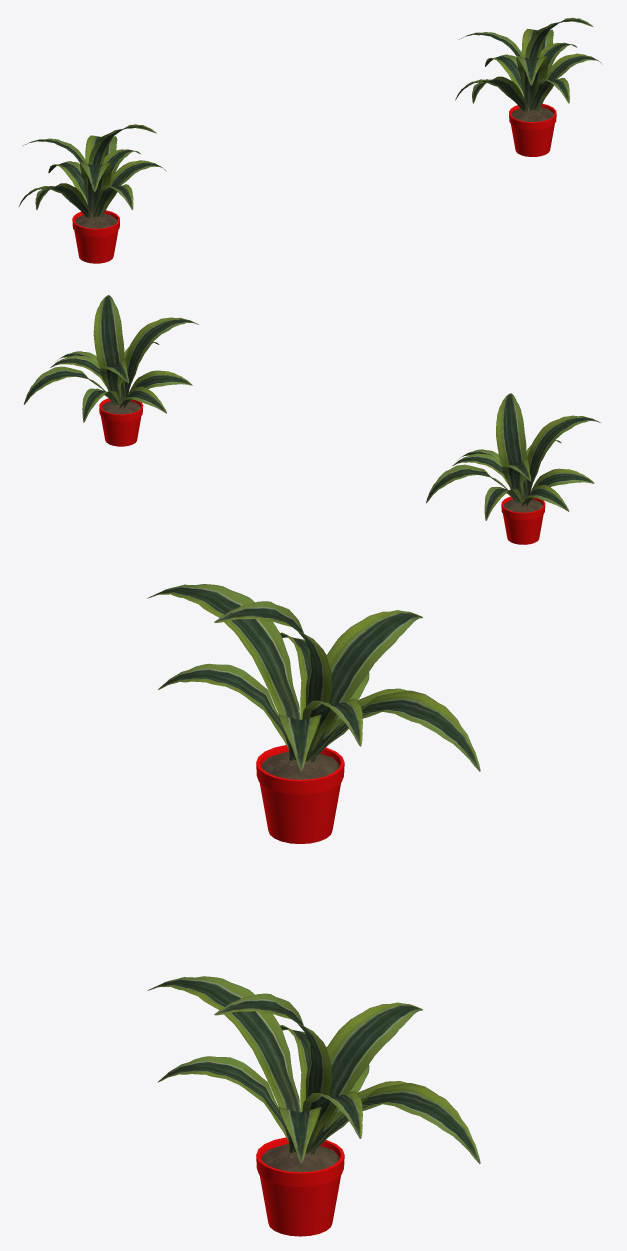
File: indoor_plant_v01_opt_old.glb
The picture shows the model from 3 angles, top to bottom: view 1: azimuth 30°, elevation 25°; view 2: azimuth 150°, elevation 25°; view 3: azimuth 270°, elevation 25°; orthographic projection. The views are drawn at different scales.
Parts seen in each view (by area): view 1: Plant2_Selectable, Plant1_Selectable; view 2: Plant1_Selectable, Plant2_Selectable; view 3: Plant1_Selectable, Plant2_Selectable.
Boxes of the visible parts, bbox=[...] form: Plant2_Selectable: bbox=[19, 124, 166, 263]; Plant1_Selectable: bbox=[455, 17, 602, 156]; Plant1_Selectable: bbox=[23, 295, 198, 446]; Plant2_Selectable: bbox=[426, 393, 600, 544]; Plant1_Selectable: bbox=[147, 976, 480, 1236]; Plant2_Selectable: bbox=[147, 584, 480, 843].
Size of the model in its own units: 3.91 by 0.8725 by 1.19.
2 materials, 2 textured.
